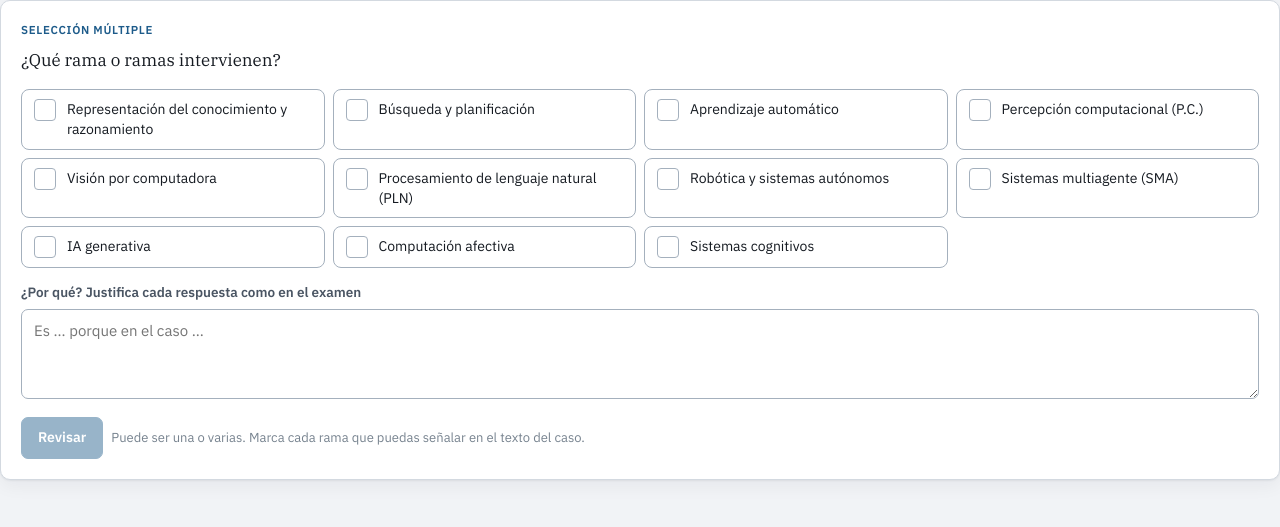
justificar › en selección múltiple, igual
The width and height of the screenshot is (1280, 527).
Click the button "Visión por computadora": {"x": 173, "y": 188} [21,158,324,218]
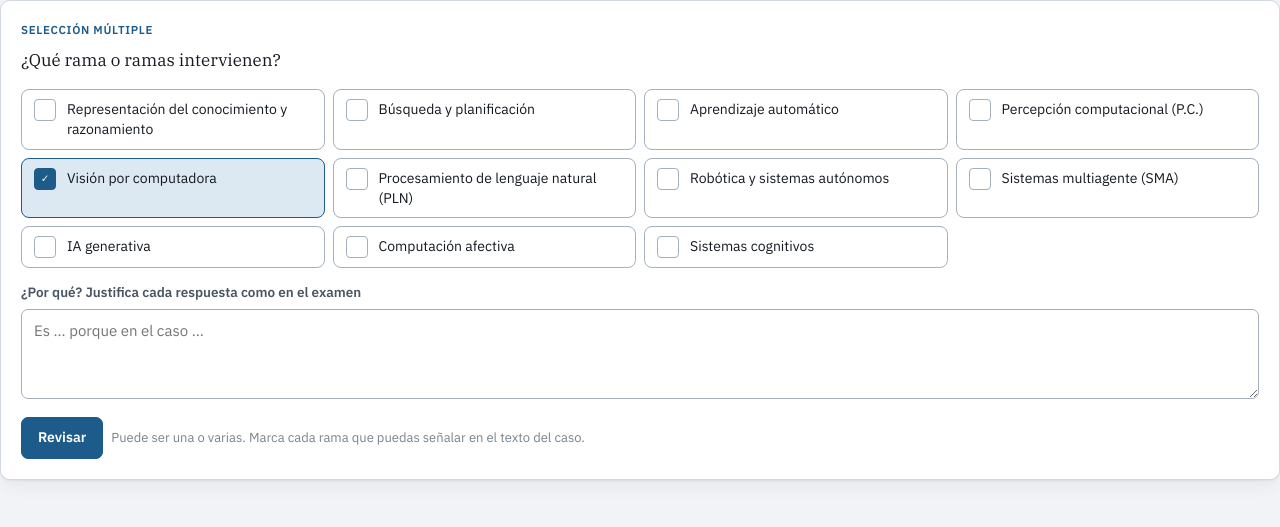
In the text box with placeholder "Es … porque en el caso …": {"x": 640, "y": 354} [21,309,1259,399], type "Usa cámaras"
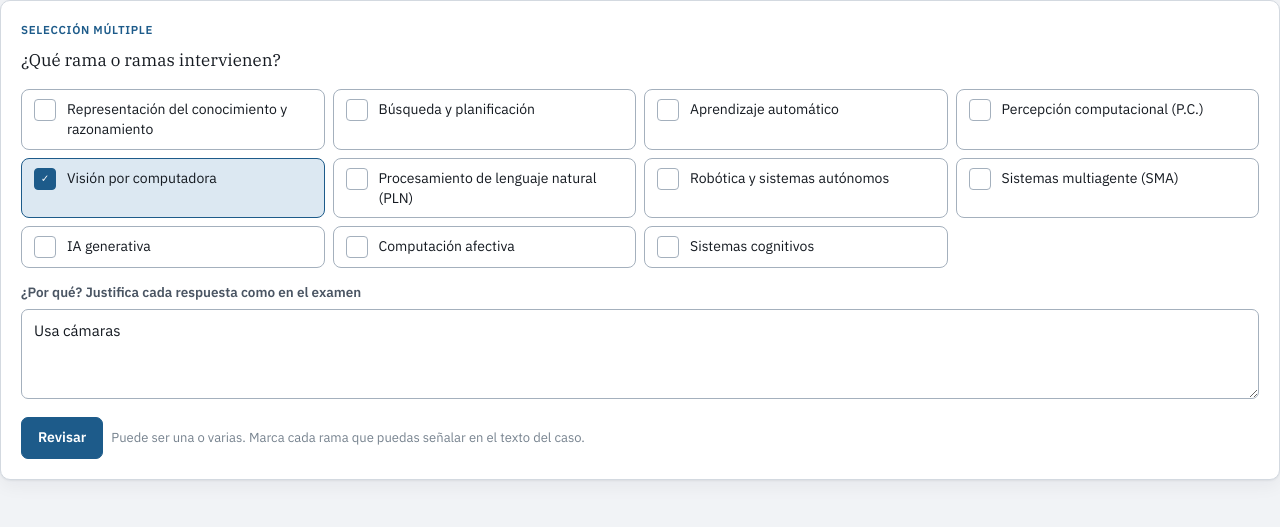
Click the button "Revisar": {"x": 62, "y": 438} [21,417,103,459]
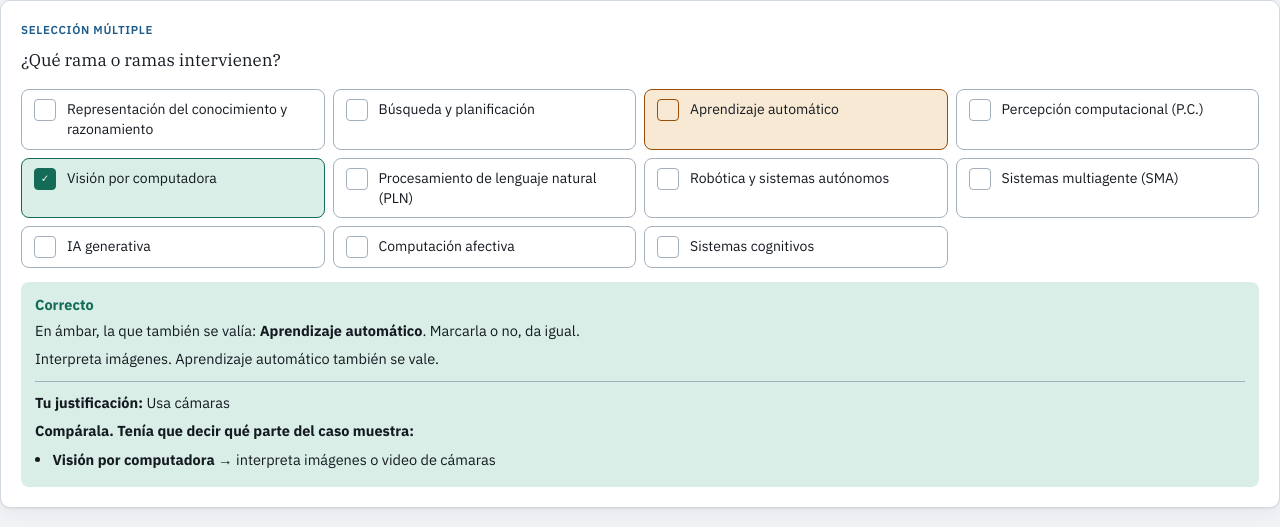
Now the text "Tu justificación: Usa cámaras" is shown, box [35,393,230,412]
